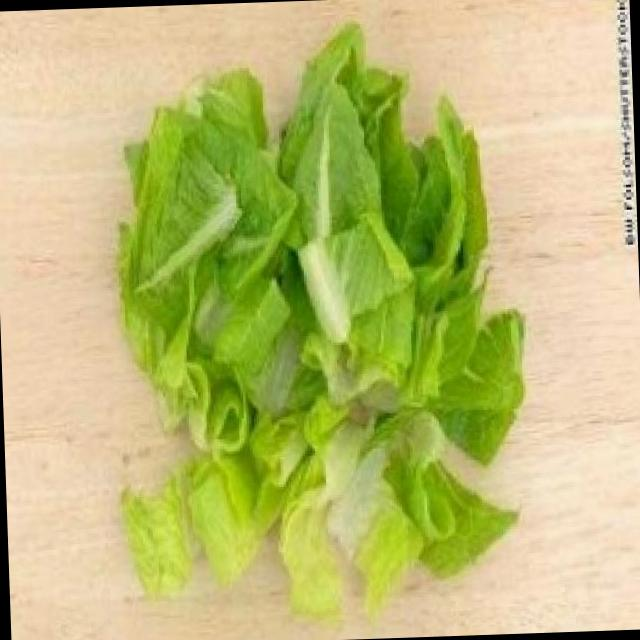Lettuce-Ready-to-Harvest: (119, 24, 523, 616)
